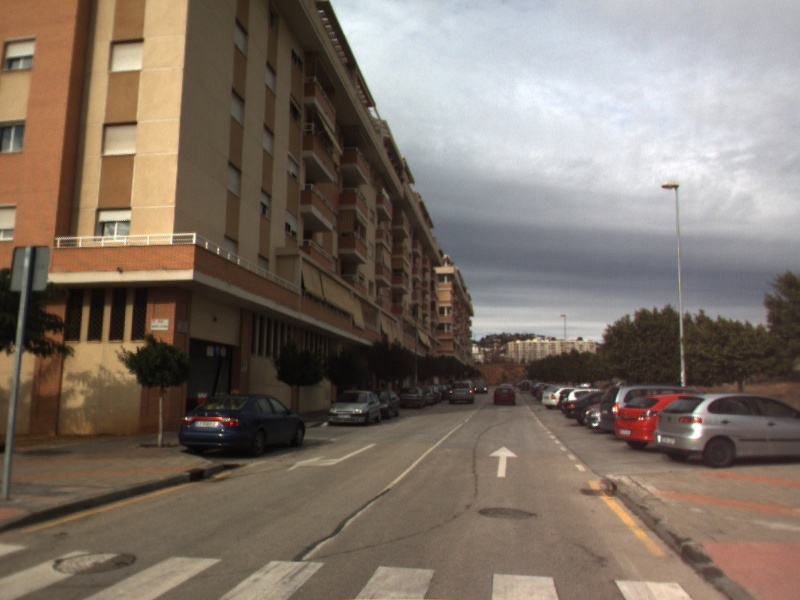STRAIGHT: (487, 444, 520, 480)
